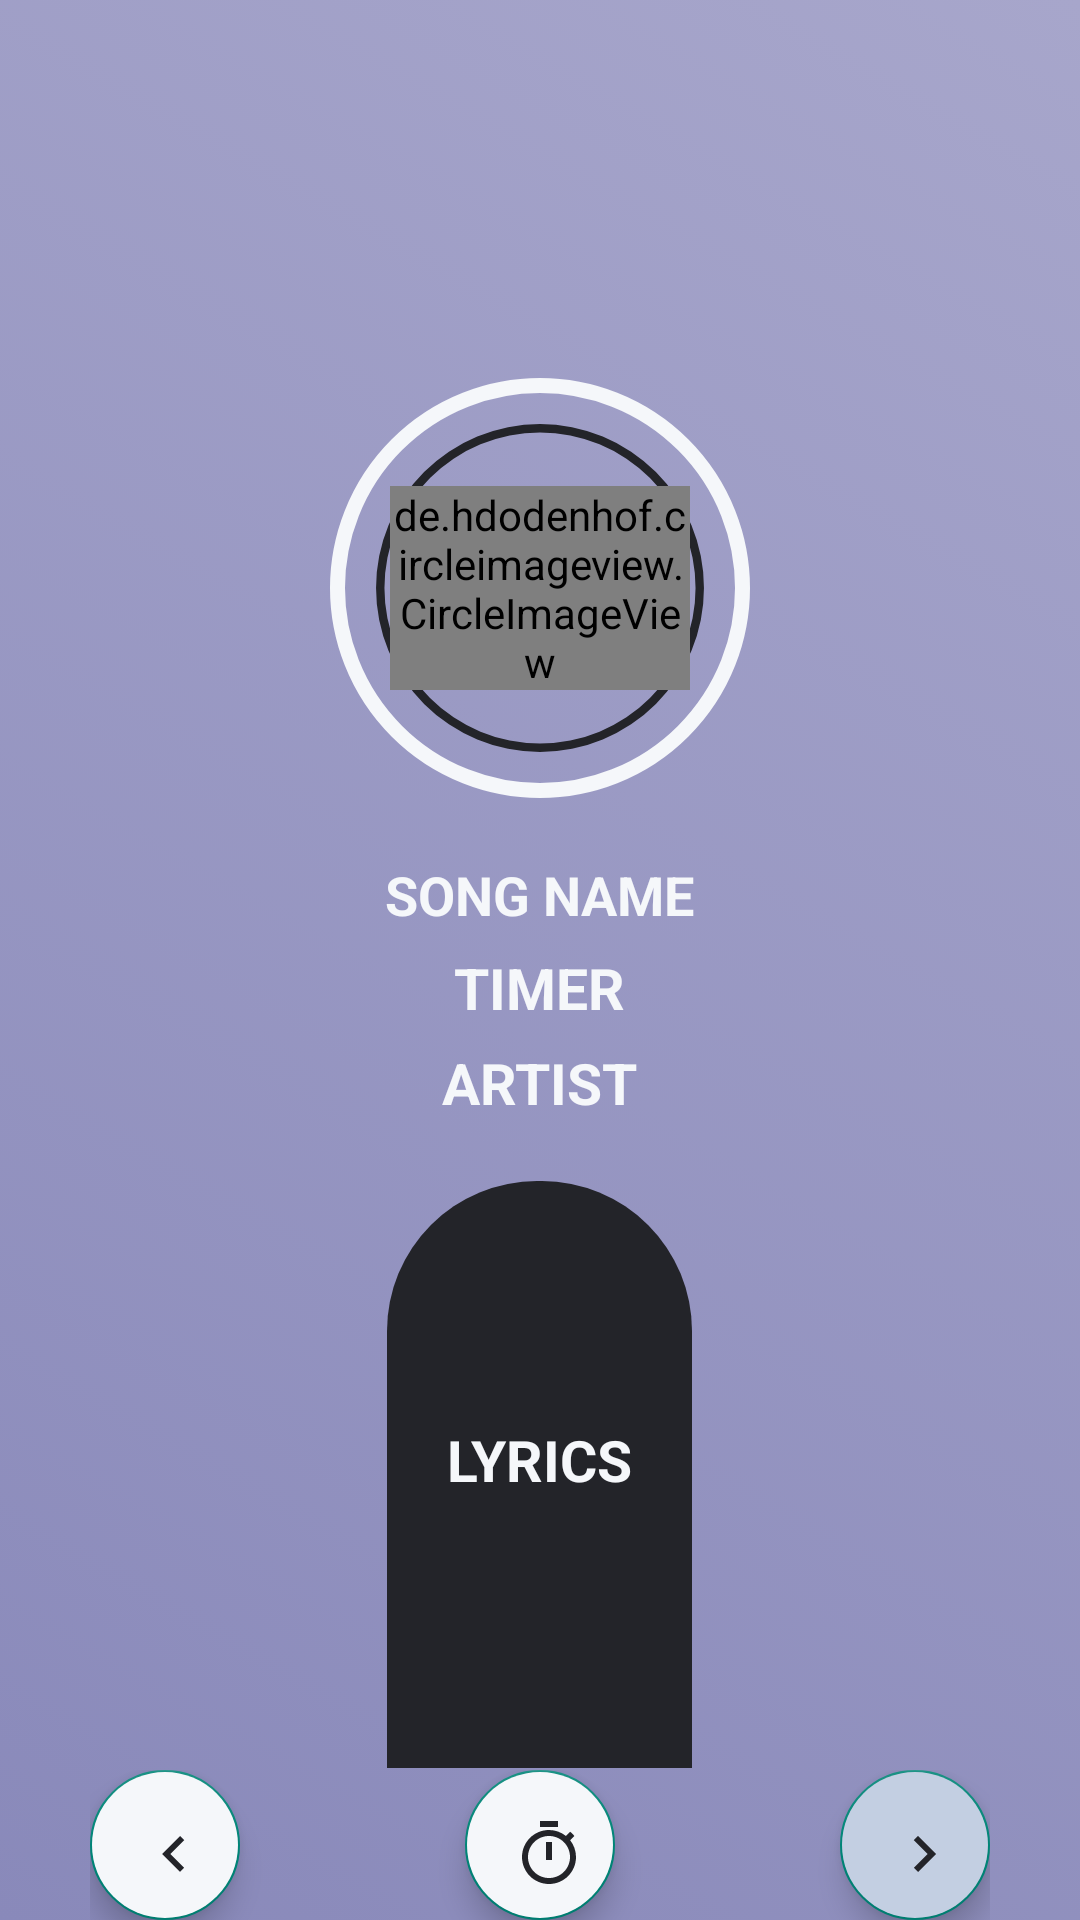

Named icons in this screenshot (1080*1920) and their bounding boxes, (left=x1, top=y1, right=x2, bottom=y2):
keyboard arrow left: (left=90, top=1770, right=240, bottom=1920)
keyboard arrow right: (left=840, top=1770, right=990, bottom=1920)
timer: (left=465, top=1770, right=615, bottom=1920)
